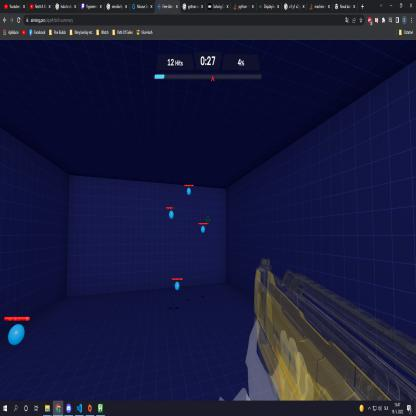sphere: (7, 323, 26, 345), (167, 210, 174, 219), (174, 280, 180, 290), (200, 225, 206, 234), (186, 188, 192, 196)
